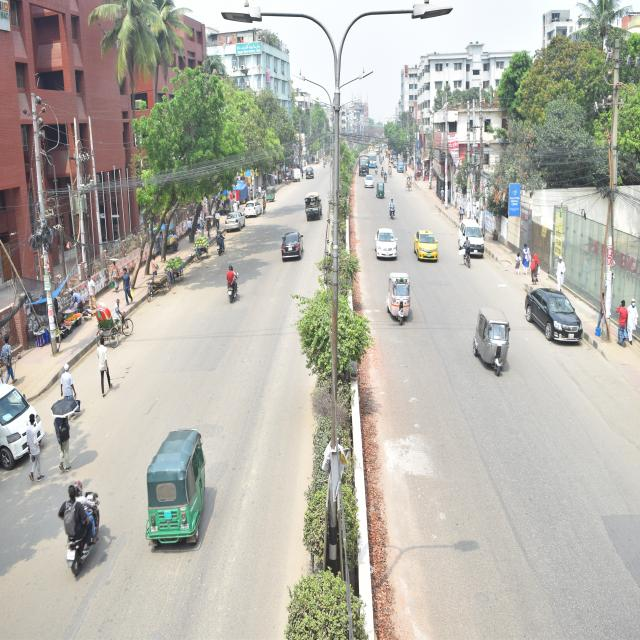car: (524, 287, 588, 352), (0, 381, 44, 470), (372, 224, 401, 263), (222, 206, 248, 240), (415, 230, 440, 264), (244, 197, 264, 225), (362, 175, 374, 192)
microbus: (458, 213, 486, 264)
motorbike: (52, 490, 106, 578), (388, 200, 399, 221)
